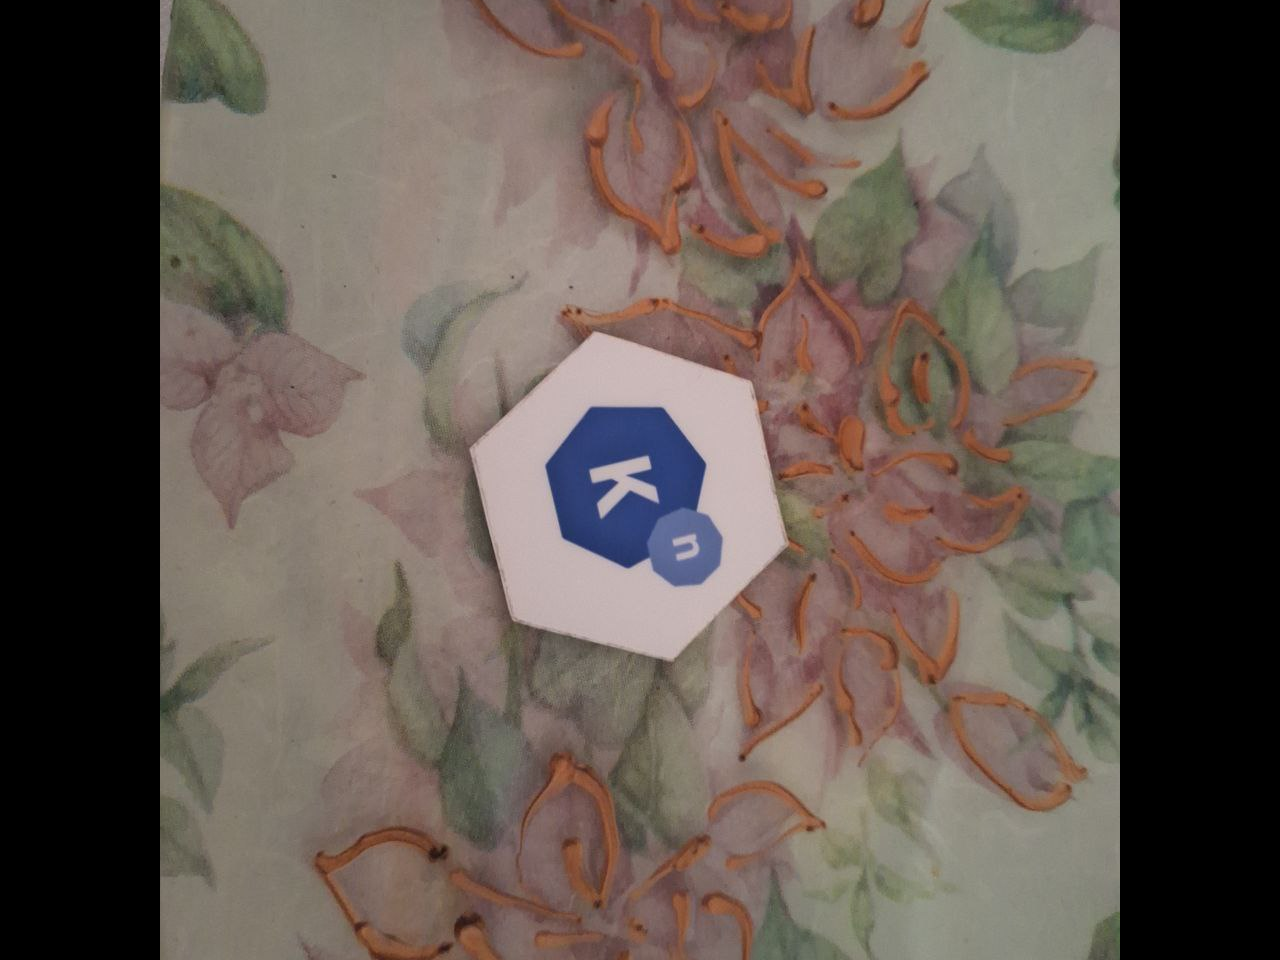knative: (547, 404, 724, 588)
